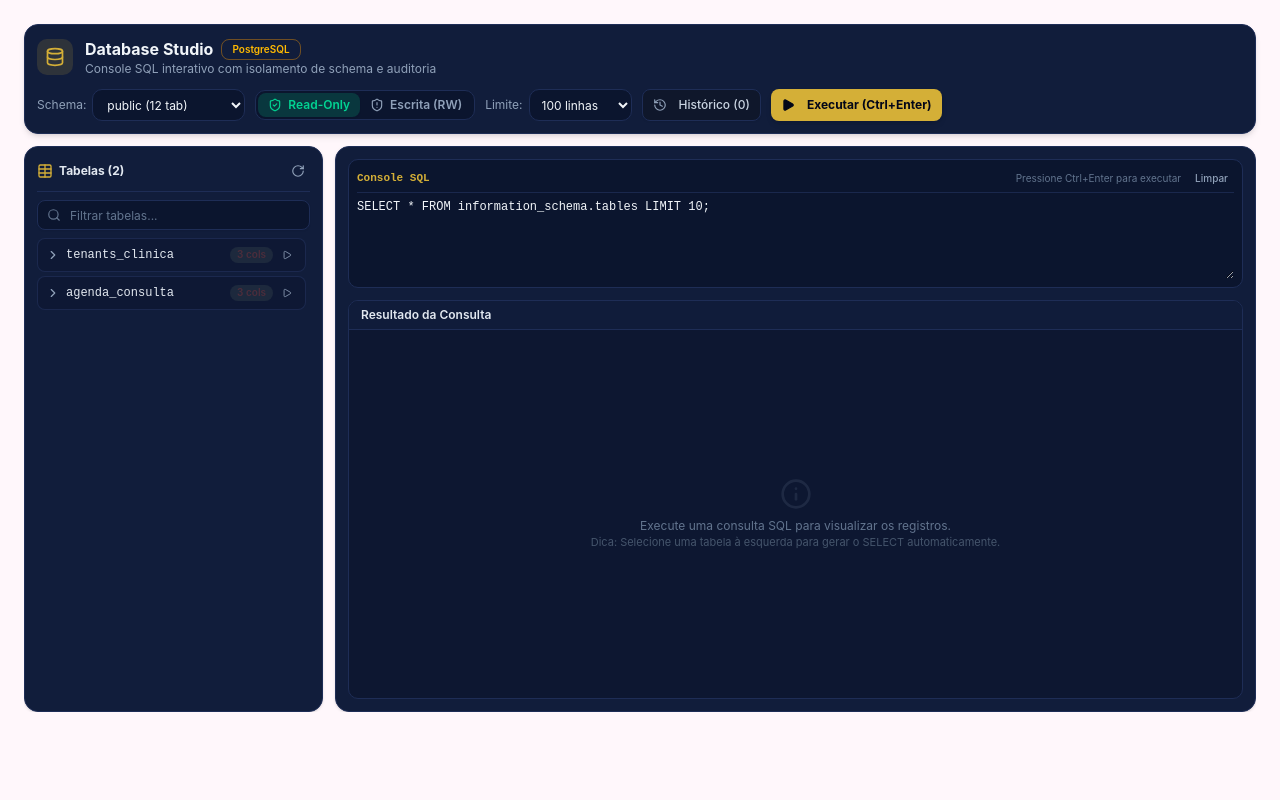
Scenario: Sprint V8 — Frontend: Database Studio & Celery Monitor › Database Studio (SQL Console & Schema Explorer) › deve abrir modal de justificativa ao tentar executar em modo Escrita (RW)
// Alterna para modo RW
Click the button "Escrita (RW)" at [416, 105], box [360,93,472,117]
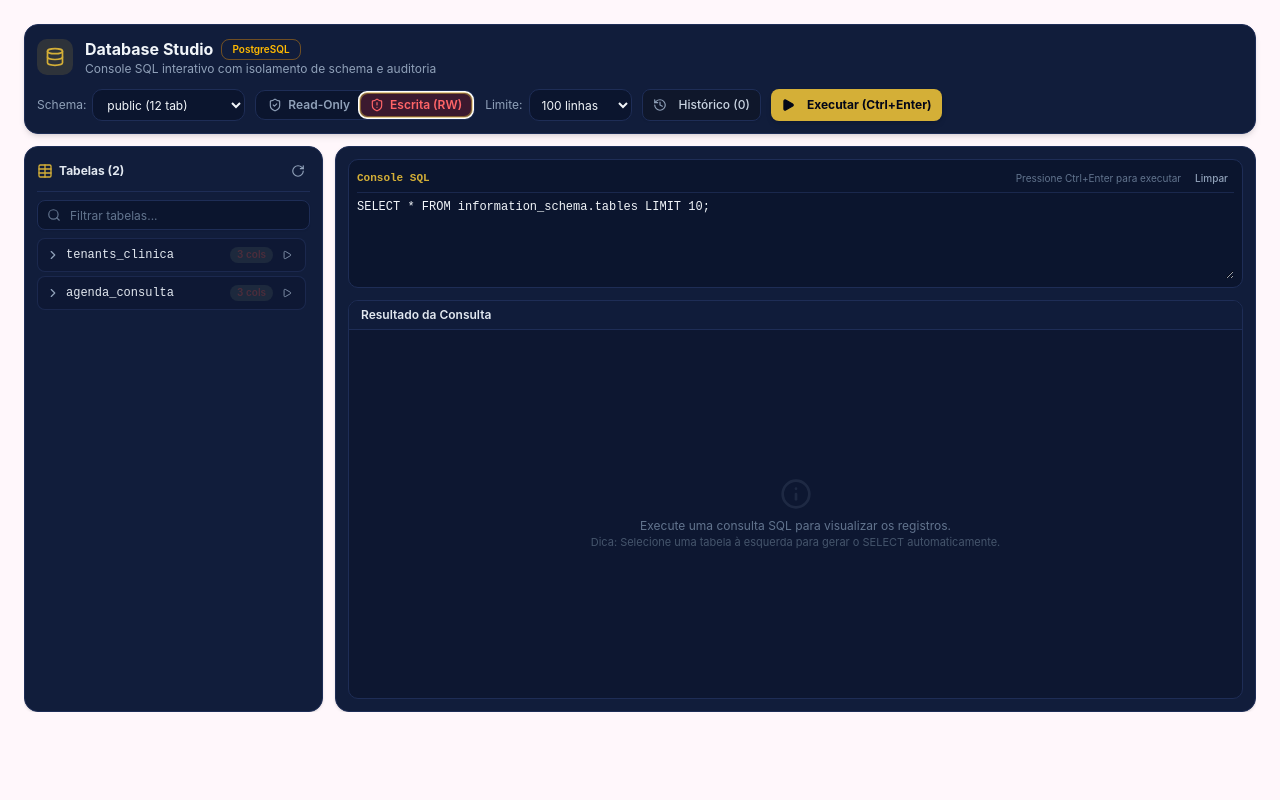
// Clica em Executar
Click the button "Executar (Ctrl+Enter)" at [856, 105], box [771,89,942,121]
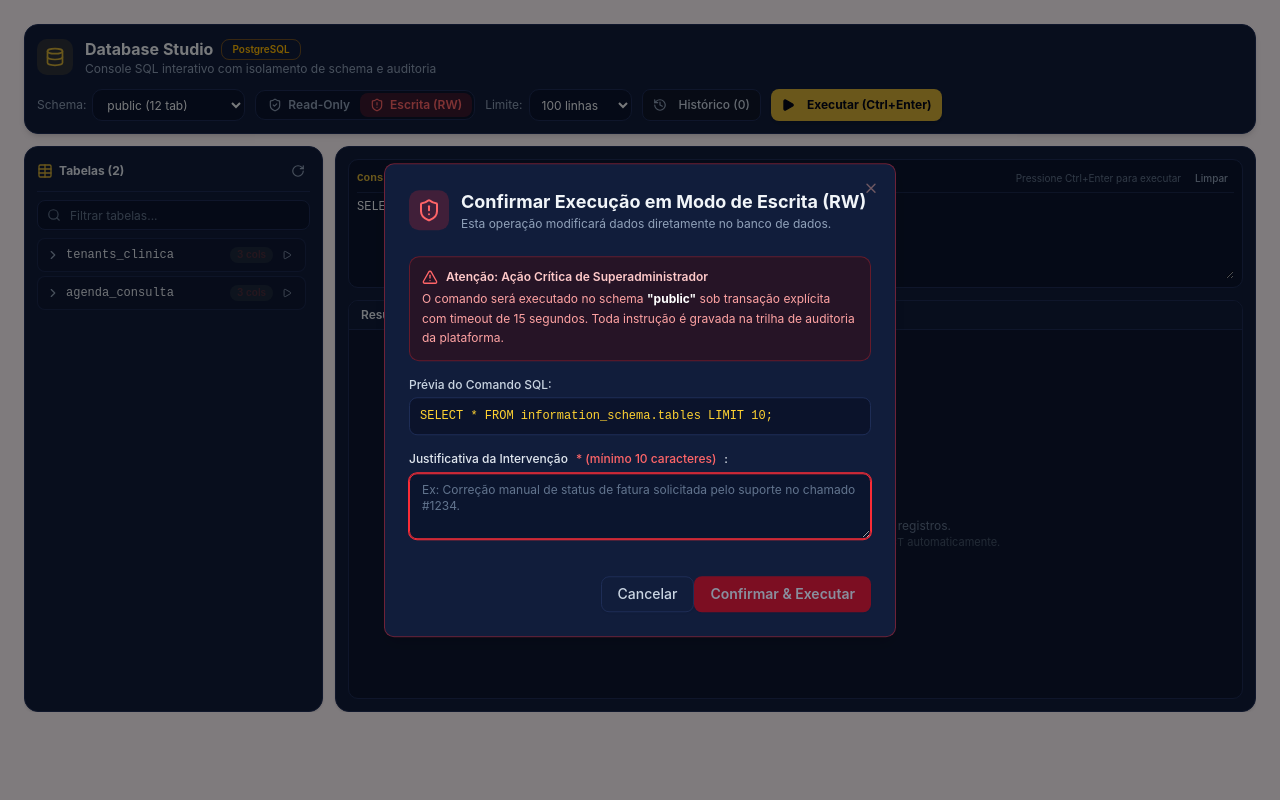
Expected: the heading "Confirmar Execução em Modo de Escrita (RW)" is shown, [461,188,866,216]
Expected: the text "Atenção: Ação Crítica de Superadministrador" is shown, [446,269,708,285]
Expected: the button "Confirmar & Executar" is disabled, [694,576,871,612]
Type "Correção emergencial de dados autorizada" into the text box with placeholder "Ex: Correção manual" at [640, 506], box [409,473,871,539]
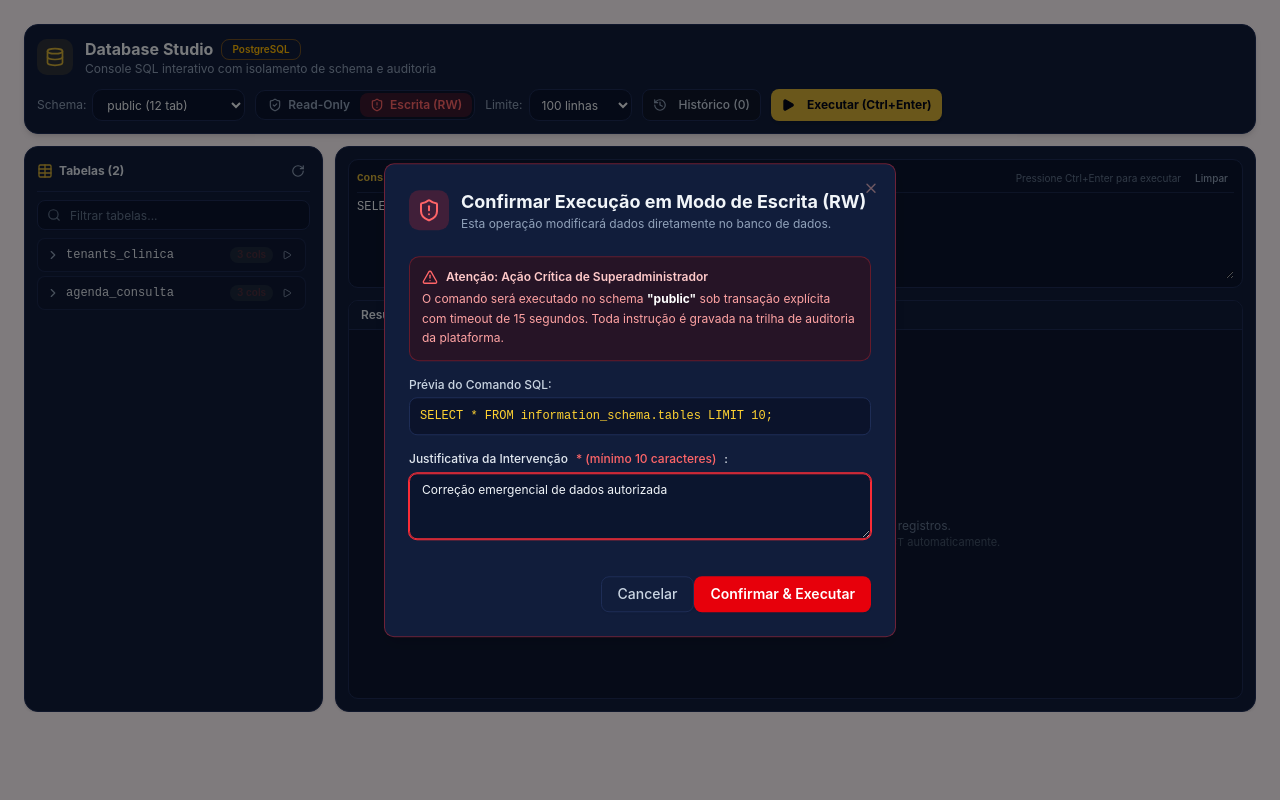
Expected: the button "Confirmar & Executar" is enabled, [694,576,871,612]
